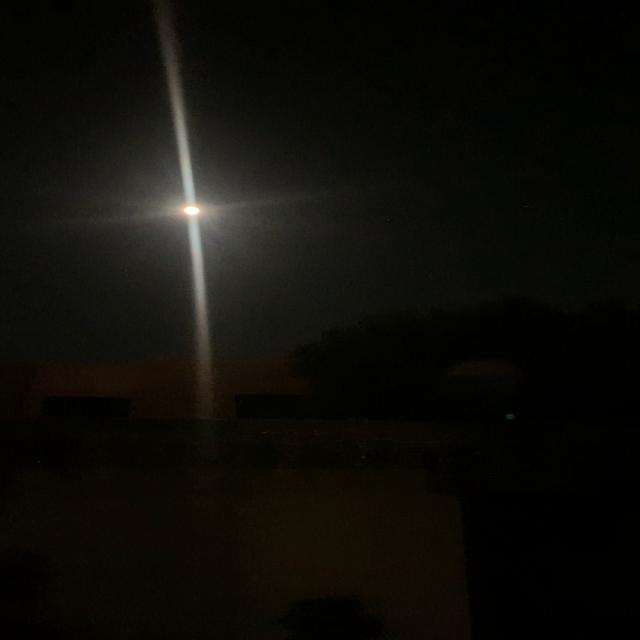moon: (168, 199, 212, 226)
